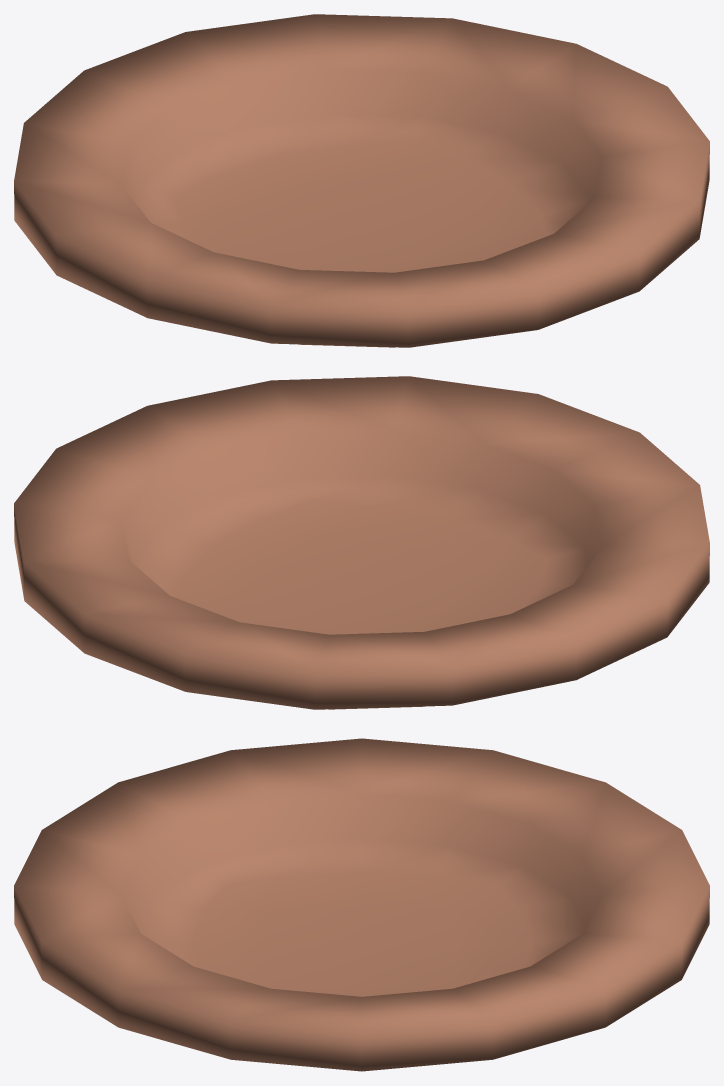
File: Plate.fbx
3 renders of one model, top to bottom at view 1: azimuth 30°, elevation 25°; view 2: azimuth 150°, elevation 25°; view 3: azimuth 270°, elevation 25°, orthographic.
Parts seen in each view (by area): view 1: Plate; view 2: Plate; view 3: Plate.
Boxes of the visible parts, x1=… form: Plate: x1=14, y1=14, x2=709, y2=347; Plate: x1=14, y1=376, x2=709, y2=709; Plate: x1=14, y1=738, x2=709, y2=1071.
Size of the model in its own units: 29.71 by 3.94 by 29.71.
